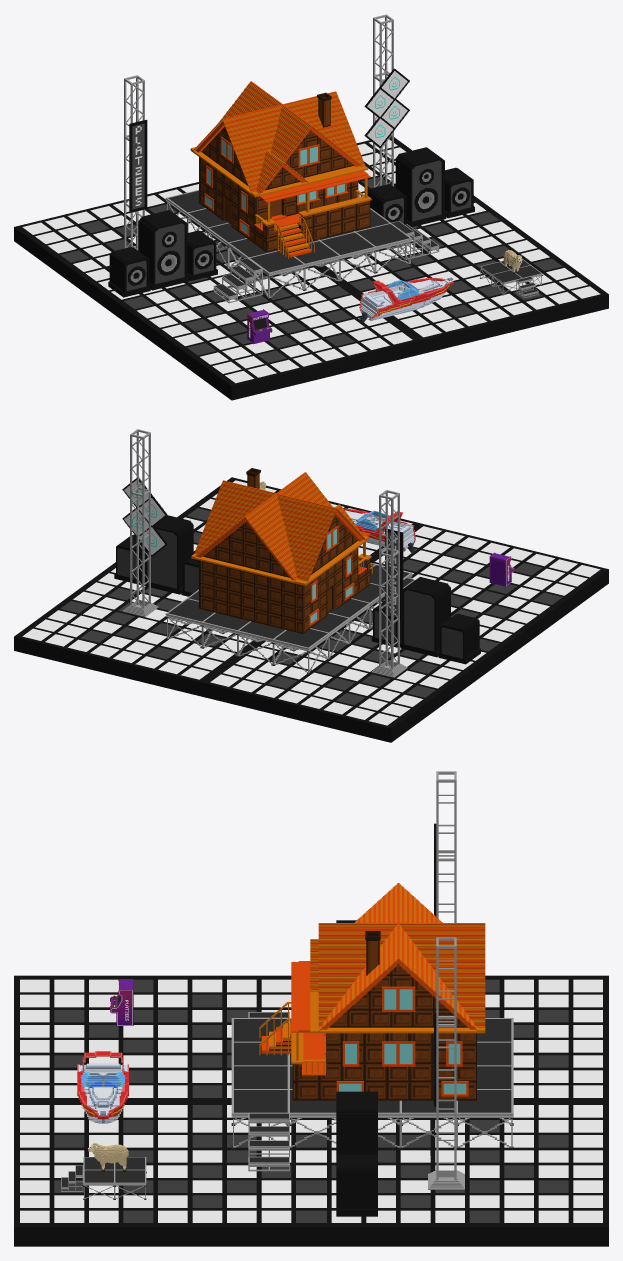
3 views of the same model, one above another, from view 1: azimuth 30°, elevation 25°; view 2: azimuth 150°, elevation 25°; view 3: azimuth 270°, elevation 25° (orthographic). The views are drawn at different scales.
Visible parts, largest first — view 1: TERRAIN_DISCO_FLOOR, HOUSE_CHOCOLATE, VEHICLES_BOAT, OBJRANDOM_ARCADE; view 2: TERRAIN_DISCO_FLOOR, HOUSE_CHOCOLATE, VEHICLES_BOAT, OBJRANDOM_ARCADE; view 3: TERRAIN_DISCO_FLOOR, HOUSE_CHOCOLATE, VEHICLES_BOAT, OBJRANDOM_ARCADE, ANIMAL_OVEJA.
Part boxes in pixels (x1,y1,x2,y2): TERRAIN_DISCO_FLOOR: (14,14,608,400); HOUSE_CHOCOLATE: (190,81,371,258); VEHICLES_BOAT: (359,277,453,322); OBJRANDOM_ARCADE: (247,309,272,344); TERRAIN_DISCO_FLOOR: (14,429,608,742); HOUSE_CHOCOLATE: (191,468,372,633); VEHICLES_BOAT: (344,508,416,553); OBJRANDOM_ARCADE: (489,552,514,586); TERRAIN_DISCO_FLOOR: (14,771,608,1246); HOUSE_CHOCOLATE: (259,883,485,1100); VEHICLES_BOAT: (77,1051,128,1123); OBJRANDOM_ARCADE: (110,979,133,1025); ANIMAL_OVEJA: (88,1142,128,1171).
Size of the model in its own units: 4000 by 2016 by 4000.
Materials: 29 (22 with a texture image).
